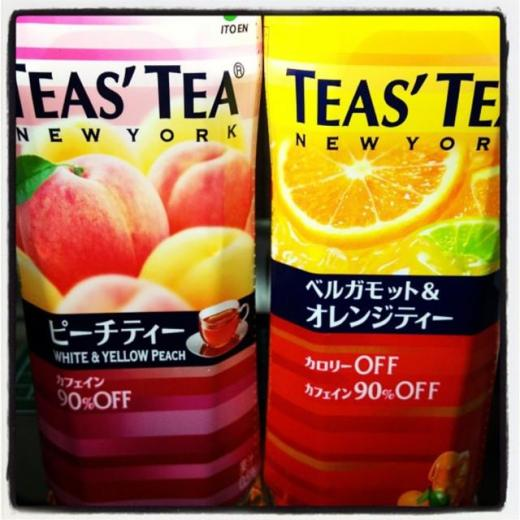Grape: (282, 114, 469, 244), (131, 223, 259, 317)
